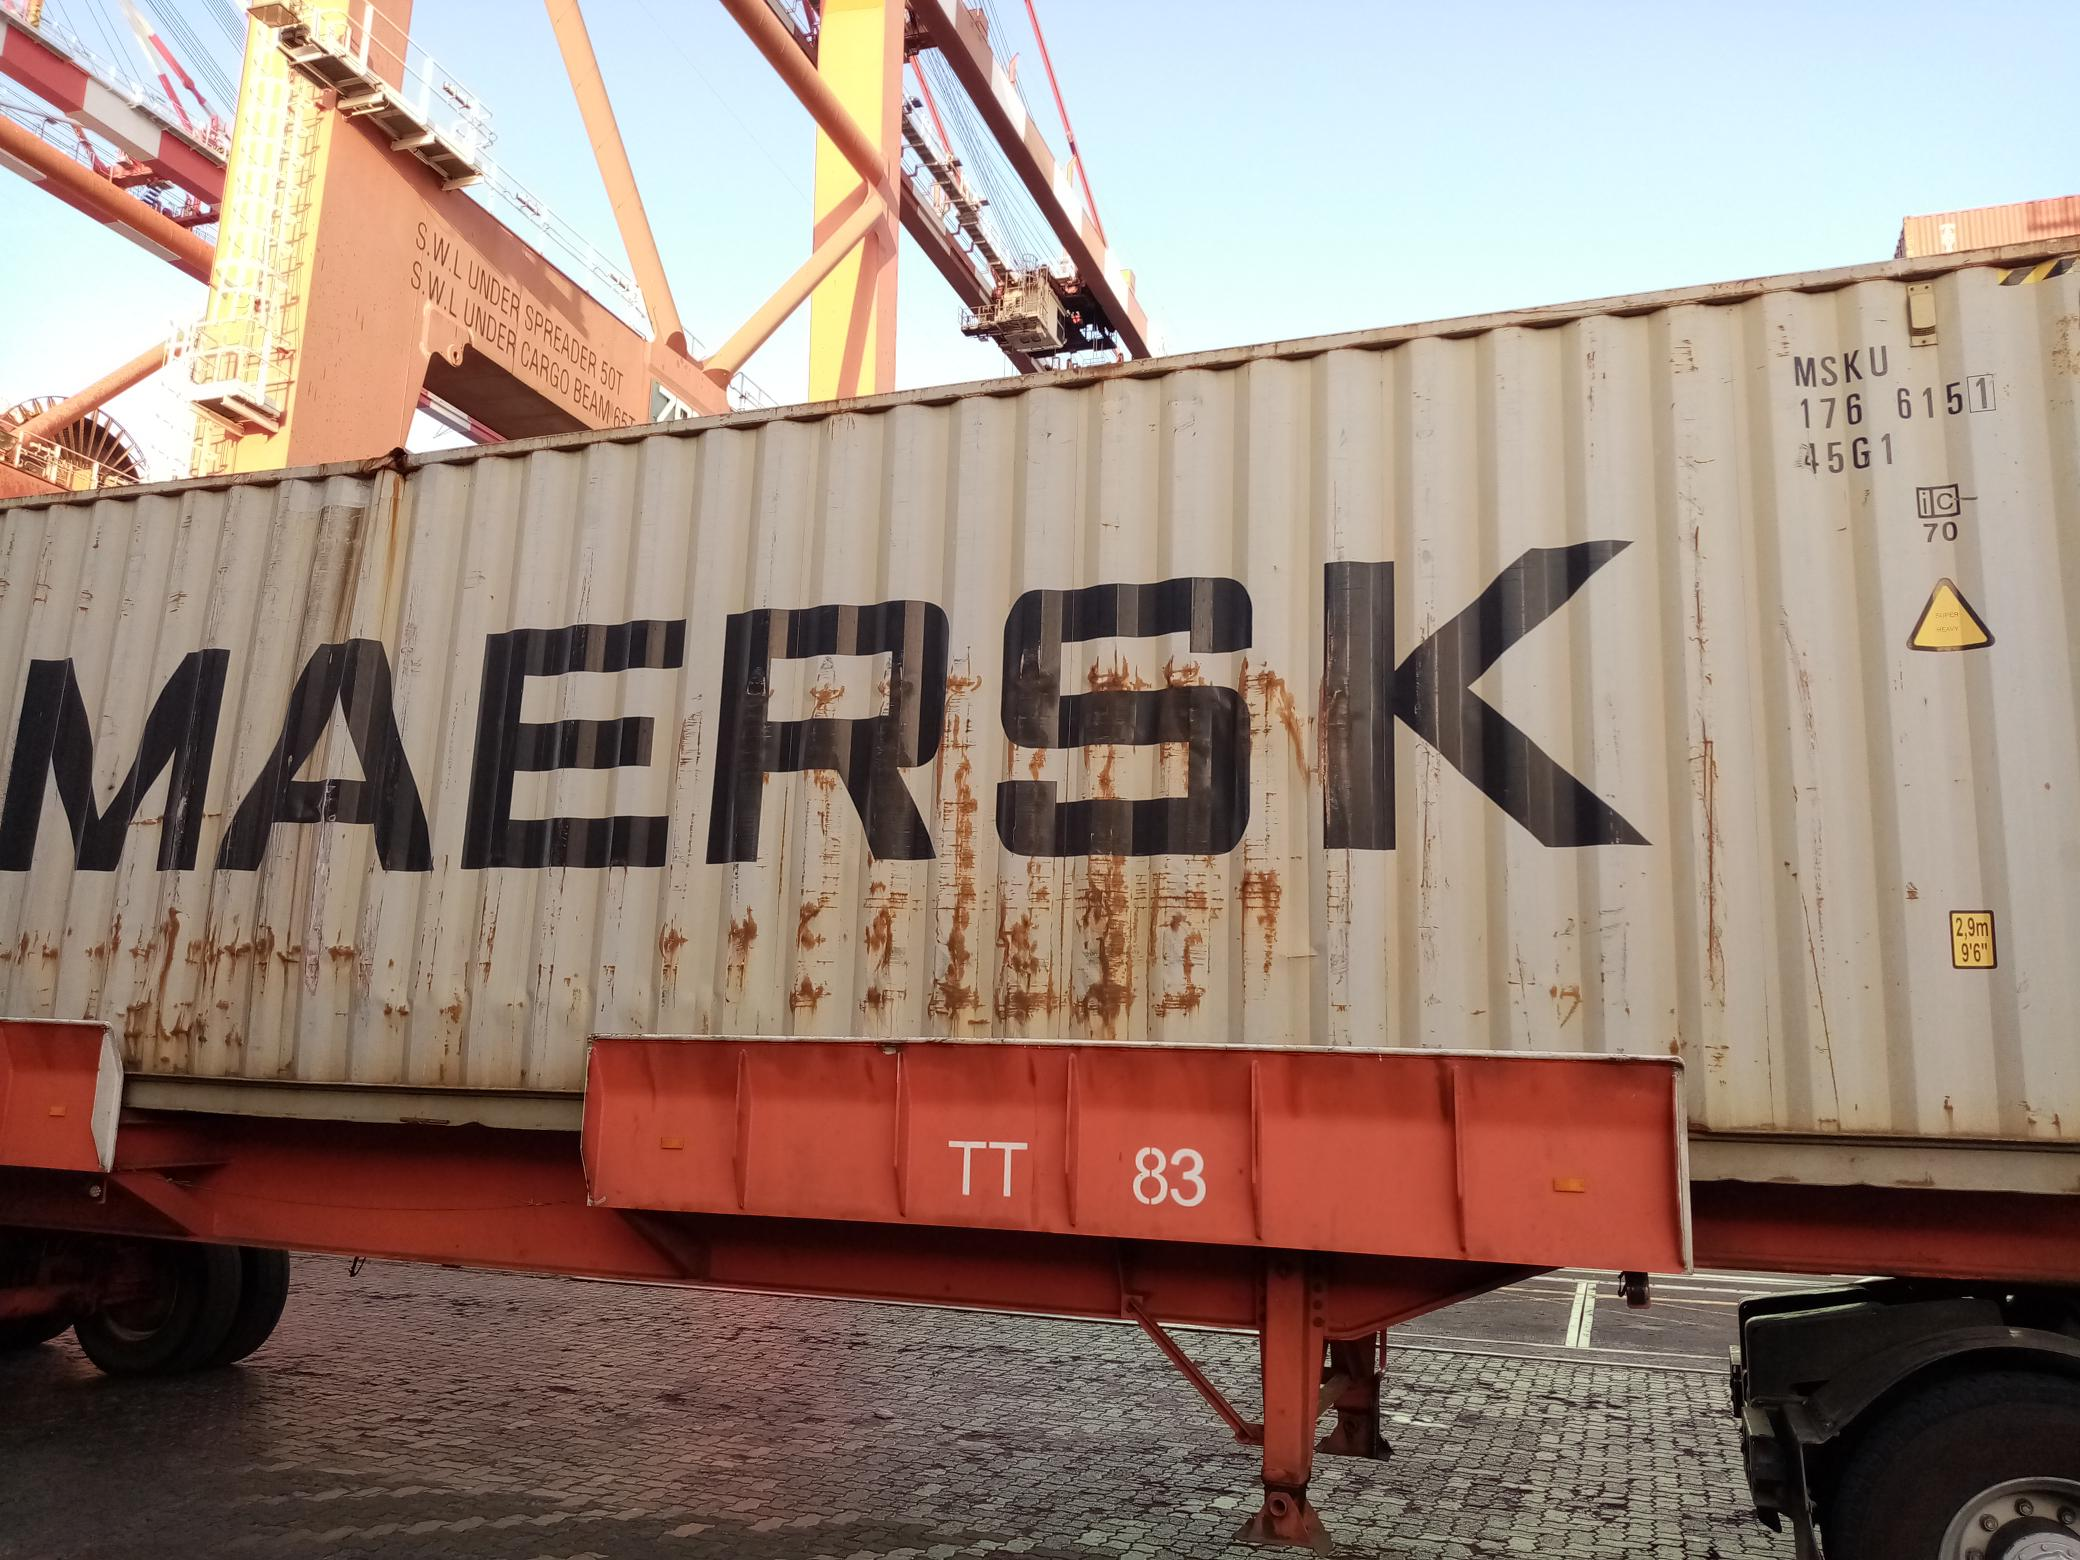cut: (367, 442, 434, 501)
rust: (701, 883, 1264, 1026), (21, 905, 427, 1049)
